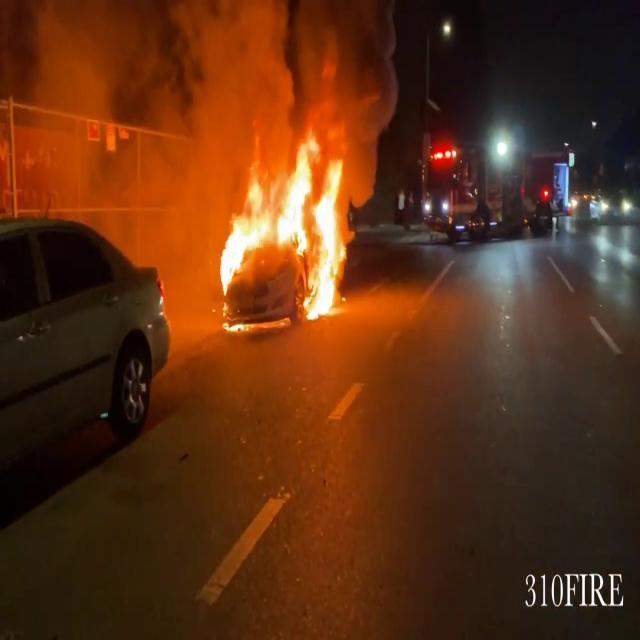Fire: (208, 123, 358, 321)
Smoke: (1, 0, 422, 212)
